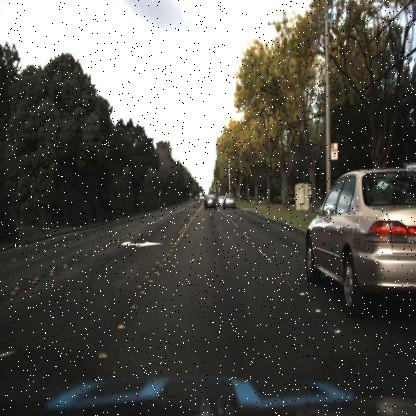car: (299, 159, 414, 320), (303, 165, 414, 318), (198, 190, 221, 214), (222, 186, 238, 214), (215, 192, 225, 208)
